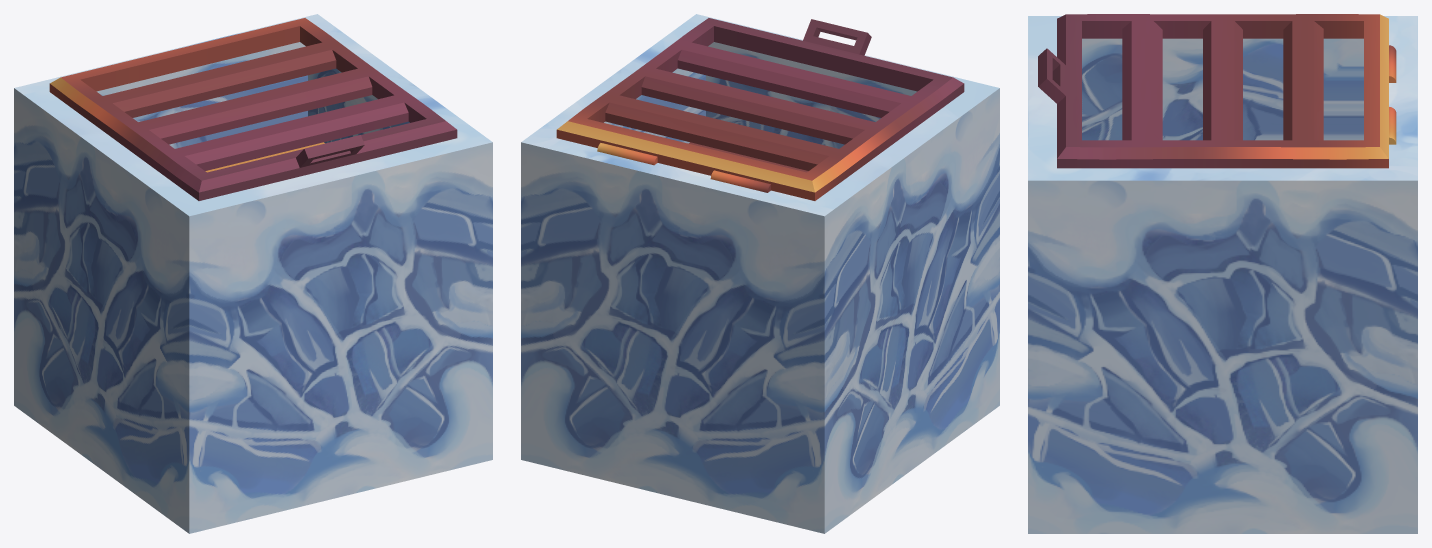
Rendered from owen.fbx.
3 views of the same model, side by side, from view 1: azimuth 30°, elevation 25°; view 2: azimuth 150°, elevation 25°; view 3: azimuth 270°, elevation 25° (orthographic). The views are drawn at different scales.
Visible parts, largest first — view 1: polySurface6; view 2: polySurface6; view 3: polySurface6.
Part boxes in pixels (bbox=[...]): polySurface6: bbox=[14, 14, 492, 533]; polySurface6: bbox=[521, 14, 999, 533]; polySurface6: bbox=[1028, 14, 1417, 533].
Bounding box in the file's own units: 1 × 1.1 × 1.
